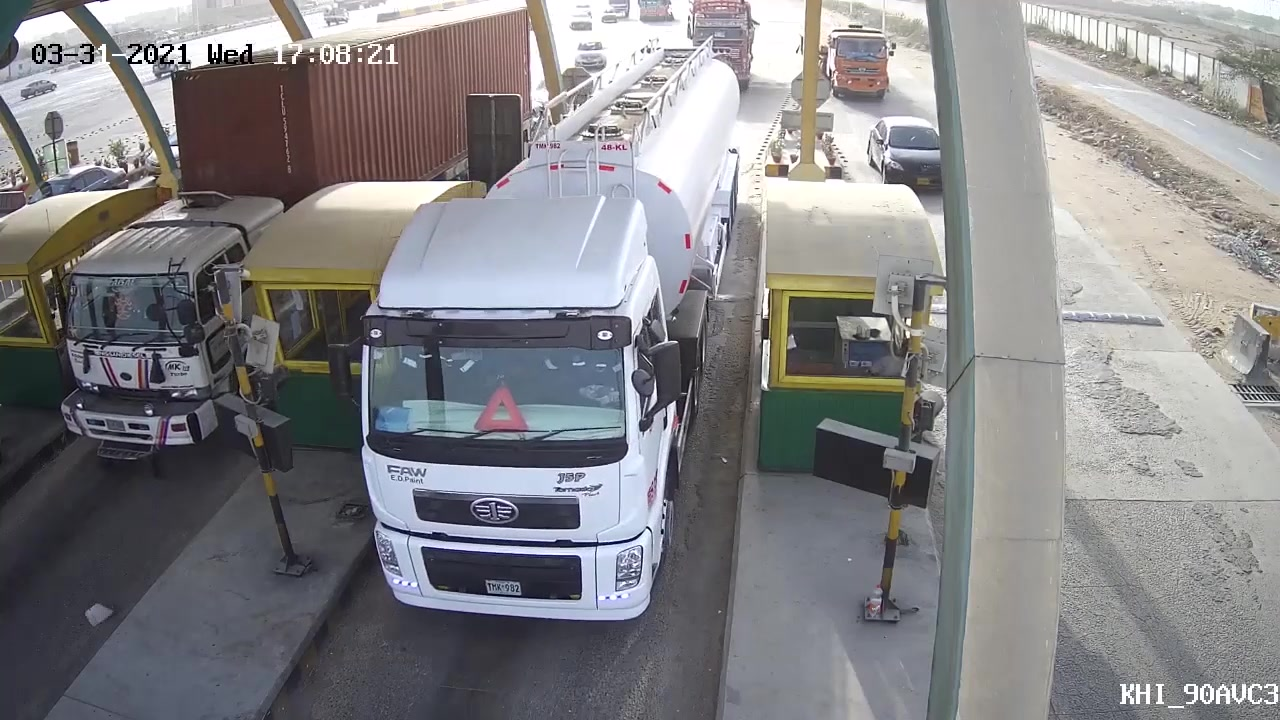F6: (353, 39, 754, 634)
